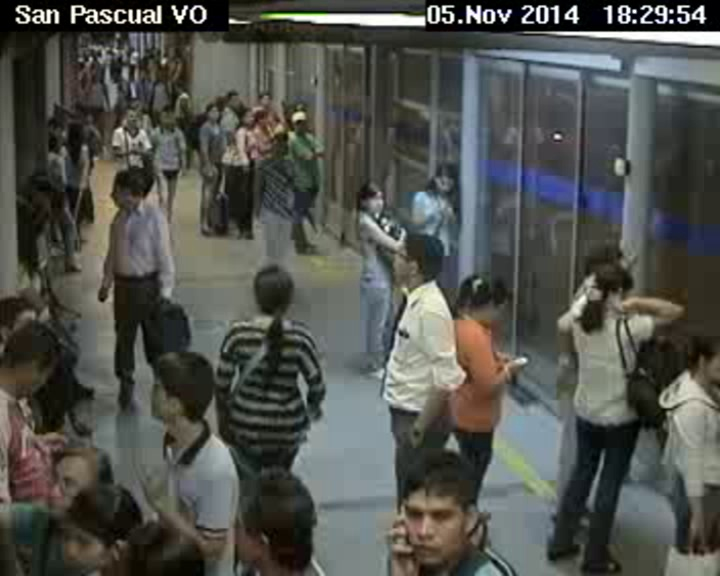person: (389, 448, 482, 572), (230, 468, 321, 576), (141, 348, 225, 436), (53, 486, 136, 565), (100, 522, 218, 576), (32, 442, 117, 508), (1, 322, 58, 402), (453, 266, 509, 328), (589, 259, 635, 319), (683, 330, 720, 393), (249, 266, 294, 317), (391, 236, 437, 285), (1, 297, 47, 341), (100, 172, 153, 210), (354, 179, 386, 216), (427, 158, 458, 194), (67, 118, 82, 150), (266, 134, 283, 157), (288, 110, 306, 131), (203, 104, 218, 126), (251, 109, 269, 126), (257, 90, 274, 108), (124, 108, 138, 129), (225, 89, 239, 108), (159, 107, 174, 124), (241, 106, 253, 126), (49, 117, 62, 133), (172, 78, 184, 93), (153, 69, 166, 82)
